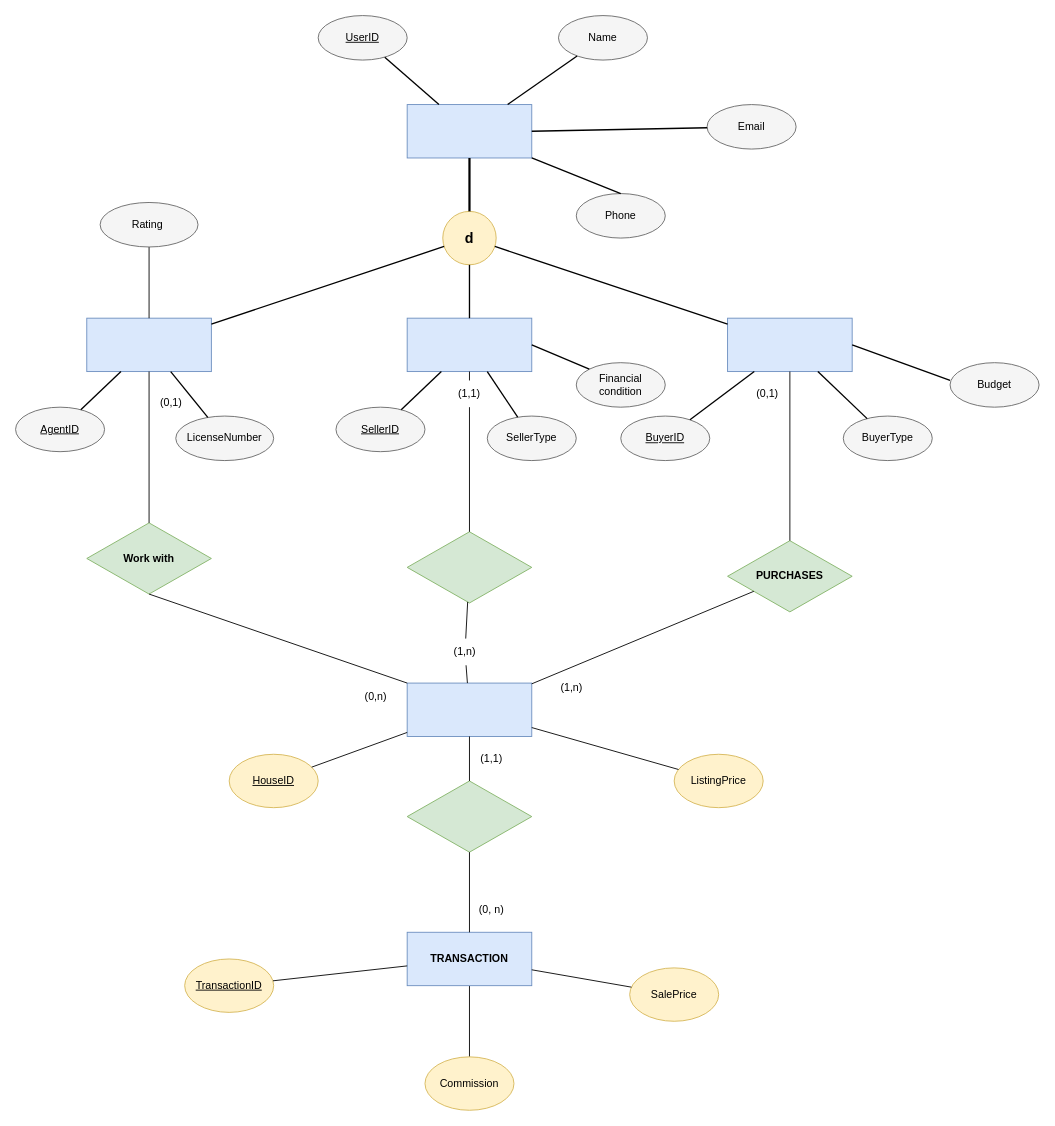
Image size: 1055x1126. Some labels were removed from this diagram. Each missing label, with the centre of its shape:
"AGENT" belongs at [148,344].
"BUYER" belongs at [789,344].
"HOUSE" belongs at [469,709].
"OWNS" belongs at [469,567].
"RECORDS" belongs at [469,816].
"SELLER" belongs at [469,344].
"USER" belongs at [469,131].
